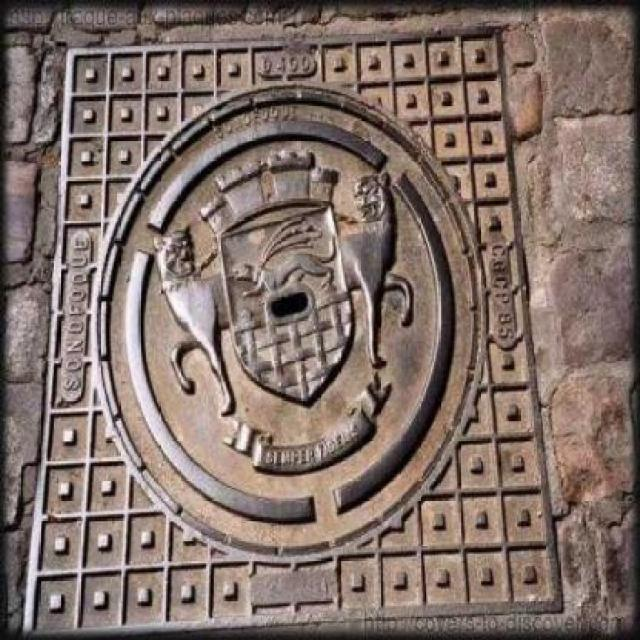Manhole: (22, 55, 570, 640)
